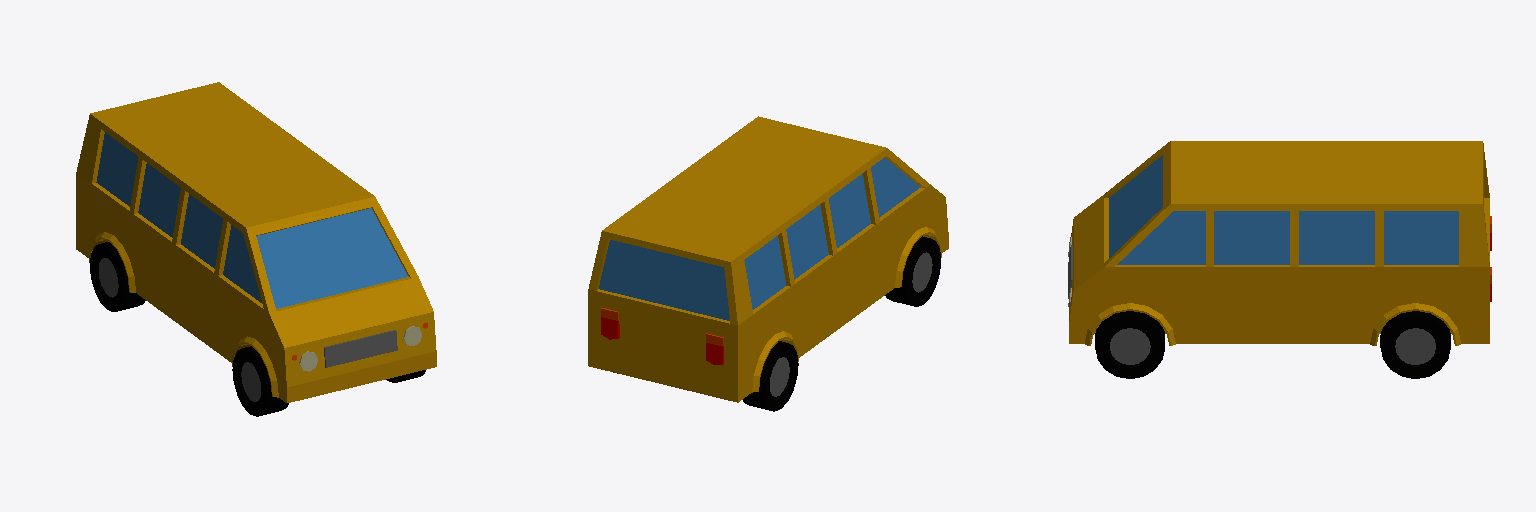
The model's file is car-minibus-citrus.obj.
The picture shows the model from 3 angles: view 1: azimuth 30°, elevation 25°; view 2: azimuth 150°, elevation 25°; view 3: azimuth 270°, elevation 25°; orthographic projection.
Visible parts, largest first — view 1: car-minibus-citrus_Cube.584; view 2: car-minibus-citrus_Cube.584; view 3: car-minibus-citrus_Cube.584.
Part boxes in pixels (x1,y1,x2,y2): car-minibus-citrus_Cube.584: (76,82,436,416); car-minibus-citrus_Cube.584: (588,116,948,411); car-minibus-citrus_Cube.584: (1068,141,1491,378).
Size of the model in its own units: 0.954 by 0.945 by 2.16.